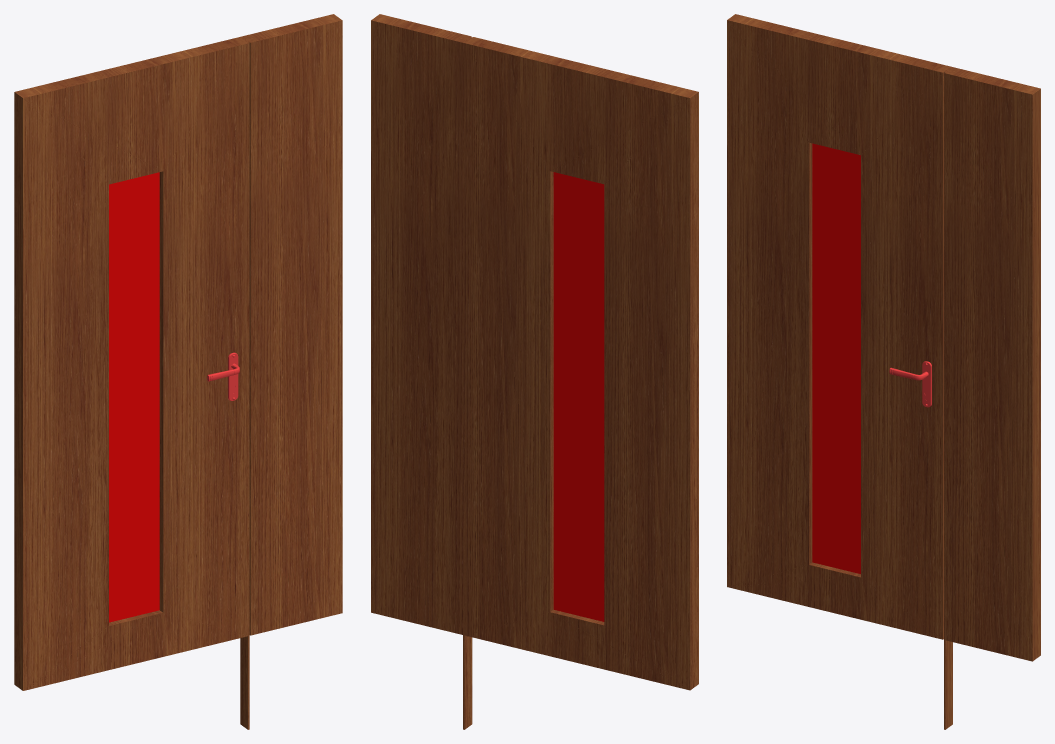
The model's file is door02.FBX.
3 views of the same model, side by side, from view 1: azimuth 30°, elevation 25°; view 2: azimuth 150°, elevation 25°; view 3: azimuth 330°, elevation 25° (orthographic). The views are drawn at different scales.
Visible parts, largest first — view 1: door02; view 2: door02; view 3: door02.
Part boxes in pixels (left/top/right/bottom): door02: left=14, top=14, right=342, bottom=729; door02: left=371, top=14, right=698, bottom=729; door02: left=727, top=14, right=1040, bottom=729.
Bounding box in the file's own units: 1060 × 2180 × 97.75.
